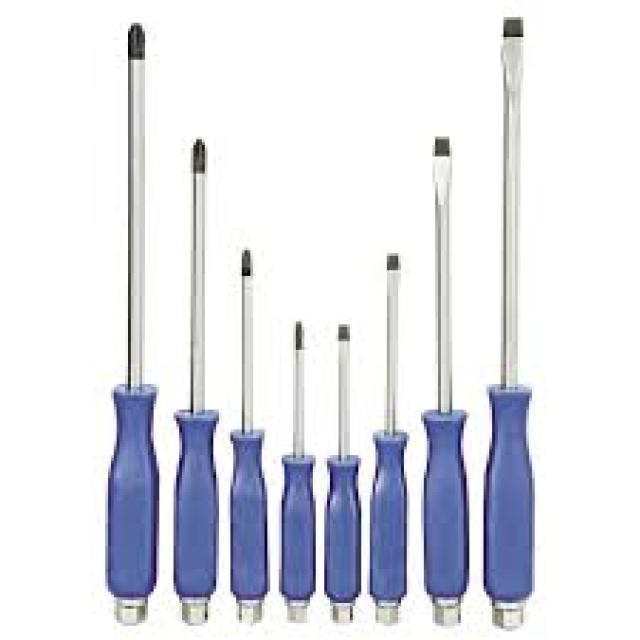screw driver: (90, 6, 167, 632), (475, 8, 545, 635), (406, 121, 482, 628), (164, 123, 227, 635), (218, 210, 274, 633), (361, 233, 419, 630), (265, 293, 326, 627), (325, 308, 370, 632)
